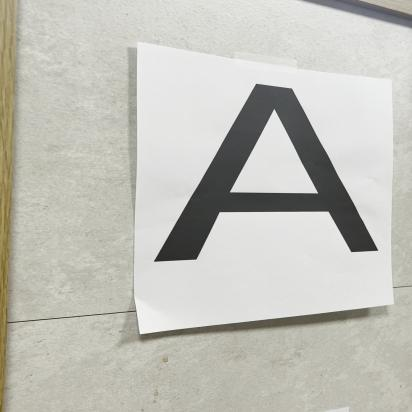seat: (157, 75, 393, 275)
